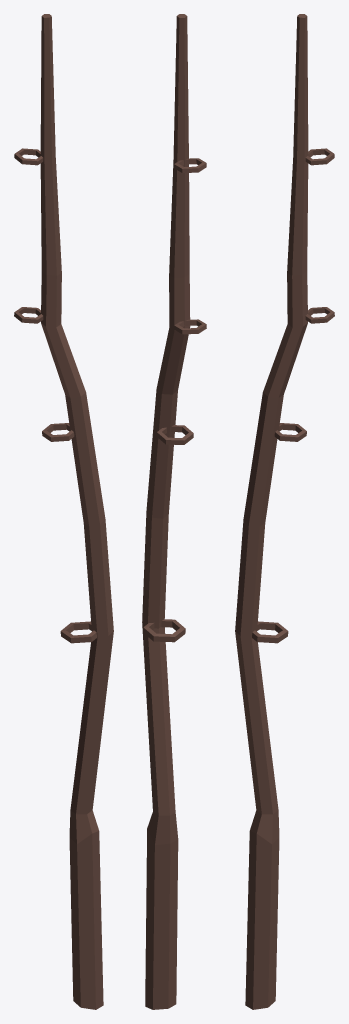
File: Q_FishingRod_Lvl1.glb
3 renders of one model, left to right at view 1: azimuth 90°, elevation 25°; view 2: azimuth 210°, elevation 25°; view 3: azimuth 270°, elevation 25°, orthographic.
Parts seen in each view (by area): view 1: FishingRod_Lvl1; view 2: FishingRod_Lvl1; view 3: FishingRod_Lvl1.
Part boxes in pixels (box(x1,y1,x2,y2)): FishingRod_Lvl1: box(14, 14, 113, 1009); FishingRod_Lvl1: box(142, 14, 206, 1009); FishingRod_Lvl1: box(235, 14, 334, 1009).
Bounding box in the file's own units: 0.2086 × 6.3 × 0.5765.
